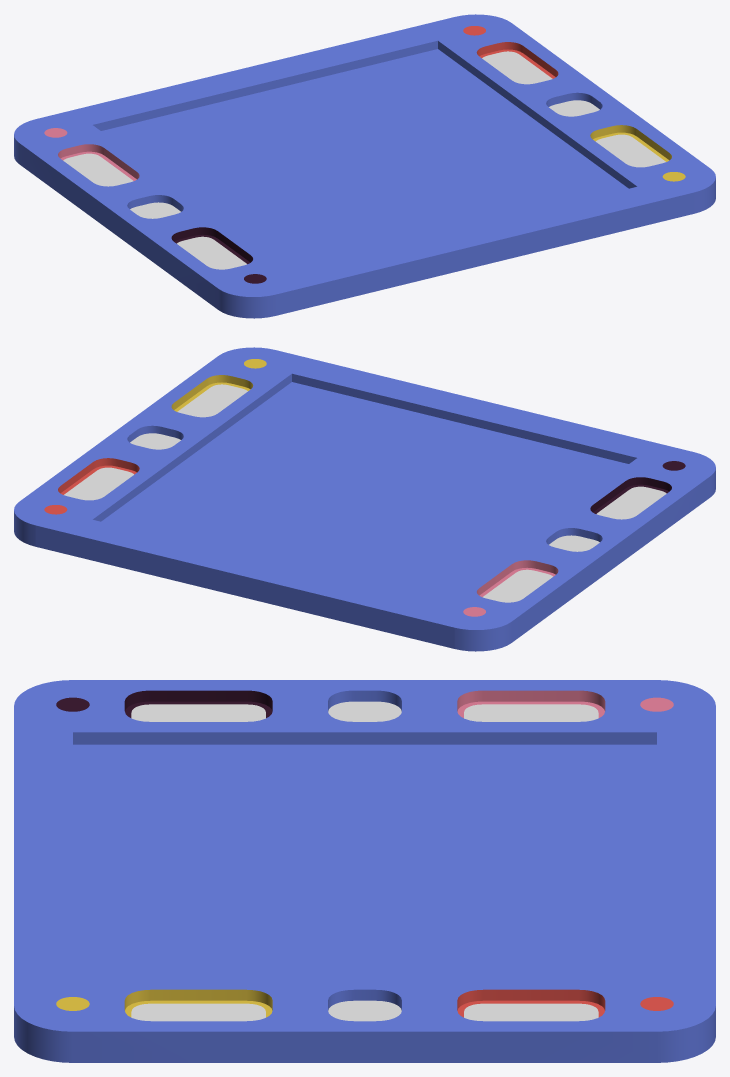
The model's file is new gameboard (2).fbx.
The picture shows the model from 3 angles, top to bottom: view 1: azimuth 30°, elevation 25°; view 2: azimuth 150°, elevation 25°; view 3: azimuth 270°, elevation 25°; orthographic projection. The views are drawn at different scales.
Parts seen in each view (by area): view 1: New_gameboard; view 2: New_gameboard; view 3: New_gameboard.
Boxes of the visible parts, x1,y1,x2,y2 form: New_gameboard: (14, 14, 715, 318); New_gameboard: (14, 347, 715, 651); New_gameboard: (14, 680, 715, 1062).
Size of the model in its own units: 2043 by 88.83 by 1724.
